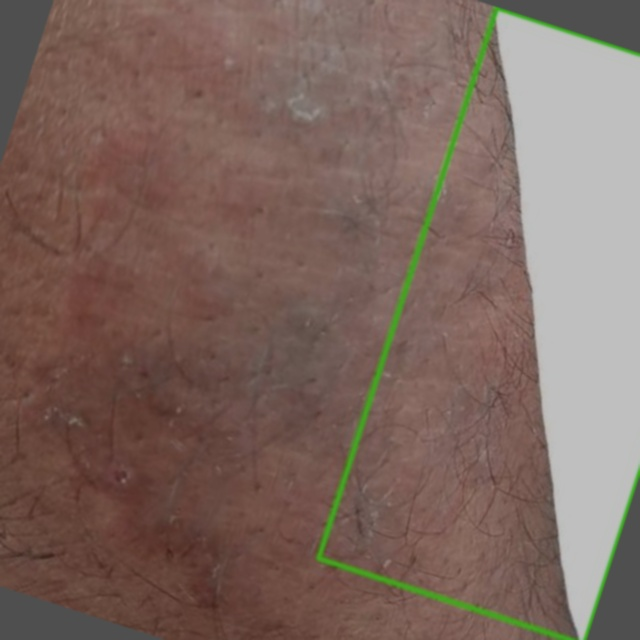Tinea Corporis: (318, 7, 639, 639)
